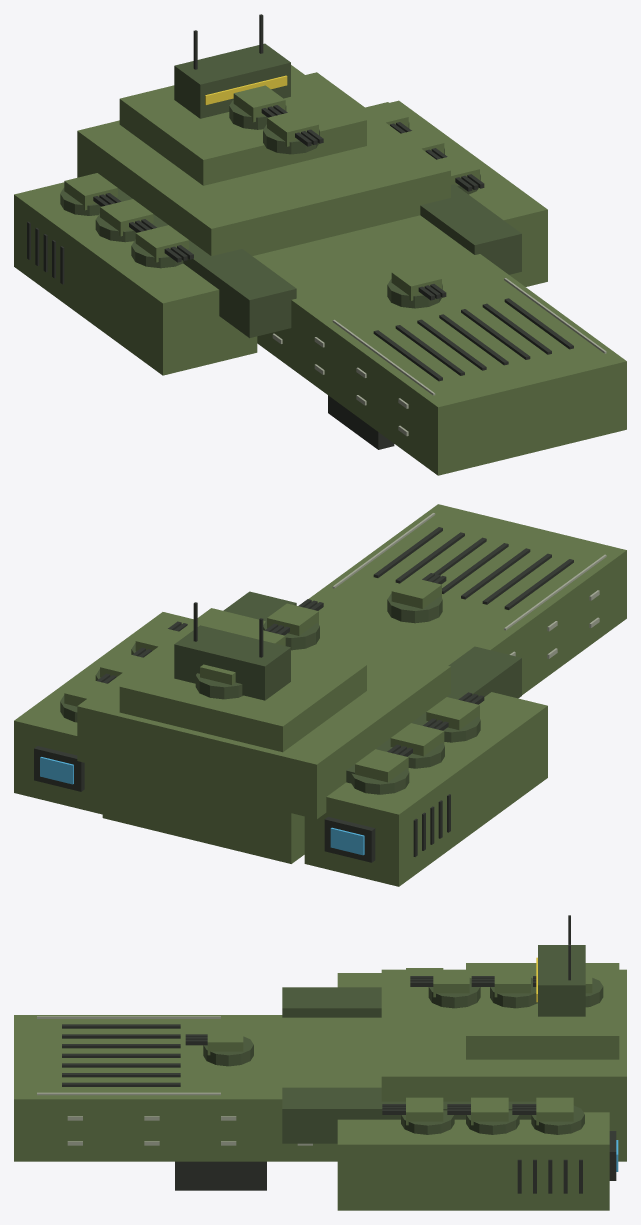
Rendered from heavy_complete.obj.
3 renders of one model, top to bottom at view 1: azimuth 30°, elevation 25°; view 2: azimuth 150°, elevation 25°; view 3: azimuth 270°, elevation 25°, orthographic. The views are drawn at different scales.
Bounding box in the file's own units: 5.34 × 3.33 × 8.
6 materials, 6 textured.
